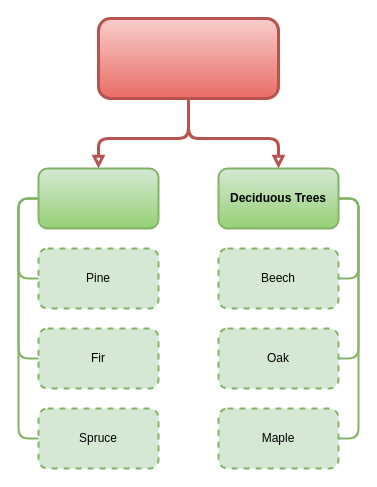
This 377x487 diagram has some shape labels left out. The shapes that lost their labels are listed below. From the top down, each one's centre as x and y in pixels, then its label:
(x=188, y=58): Tree Species
(x=98, y=198): Conifers
